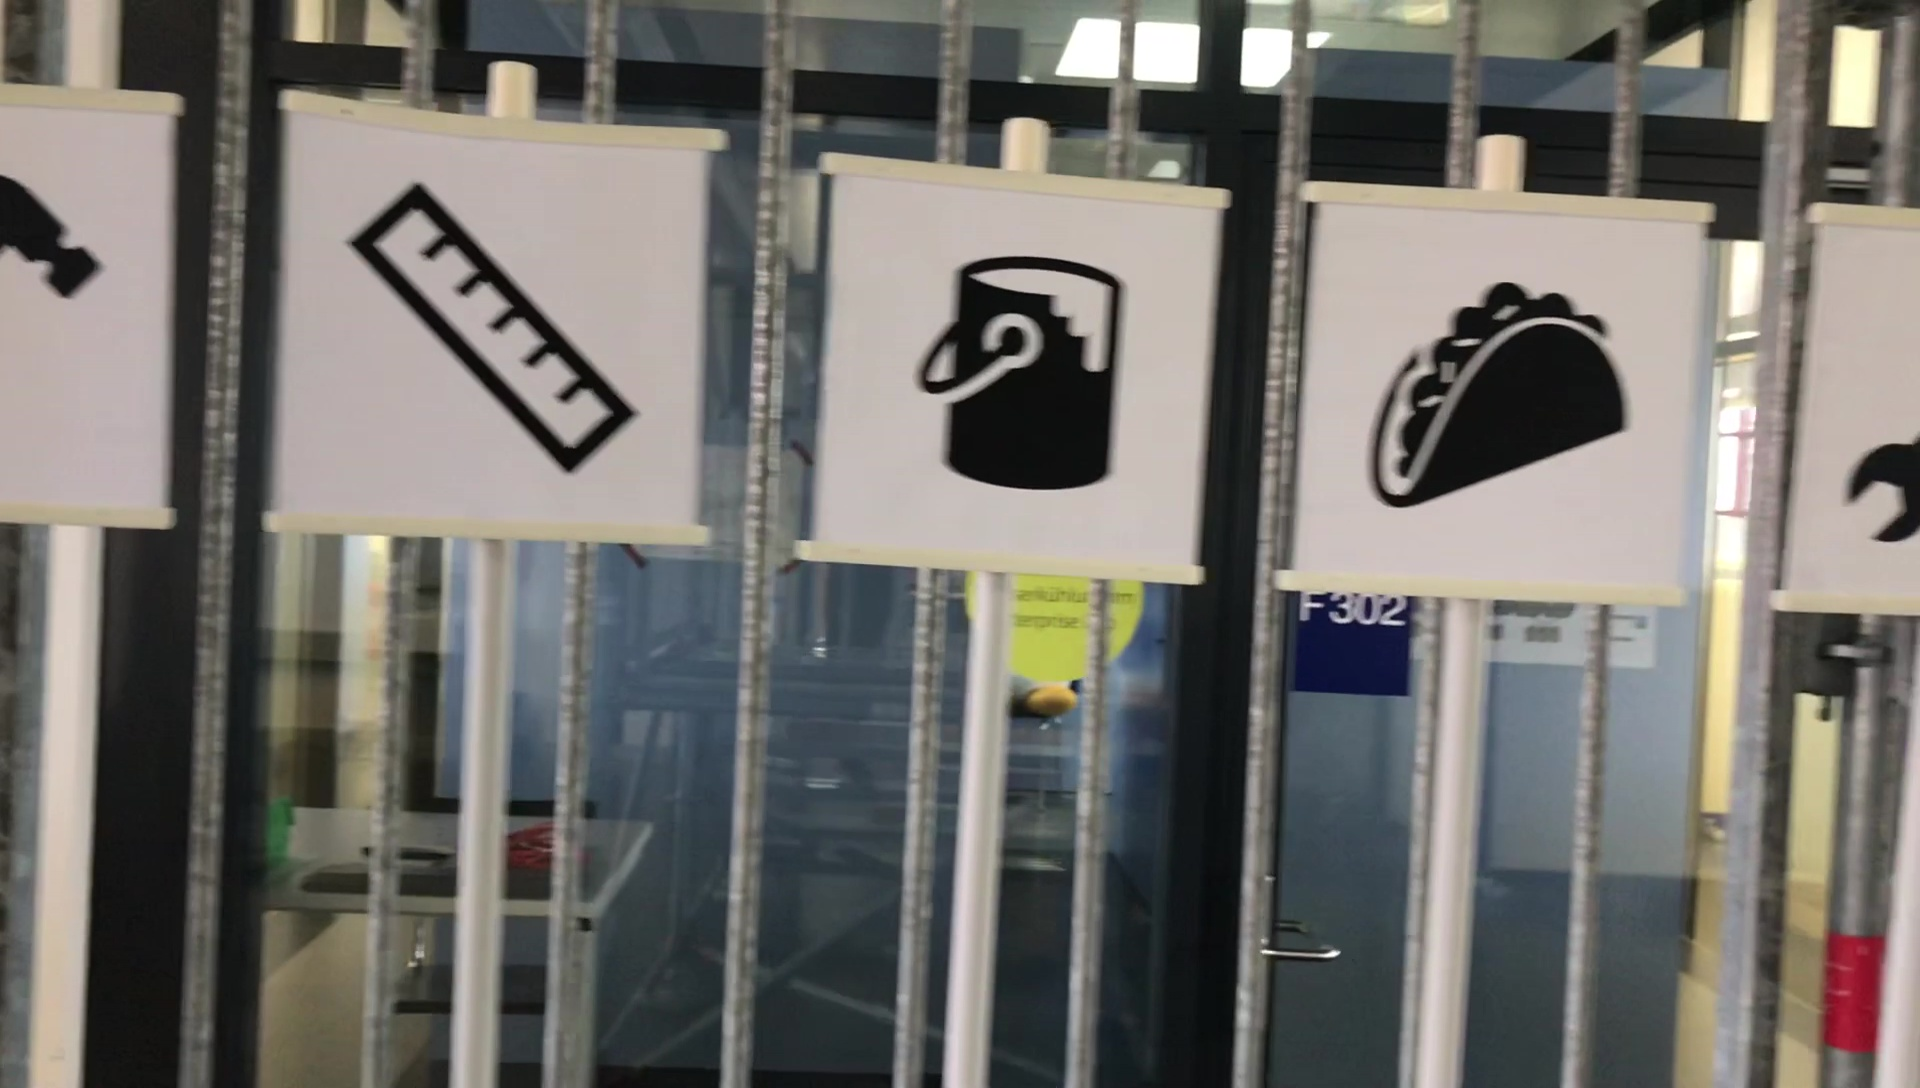bucket: (906, 237, 1135, 491)
ruler: (349, 175, 665, 487)
taco: (1375, 276, 1638, 502)
